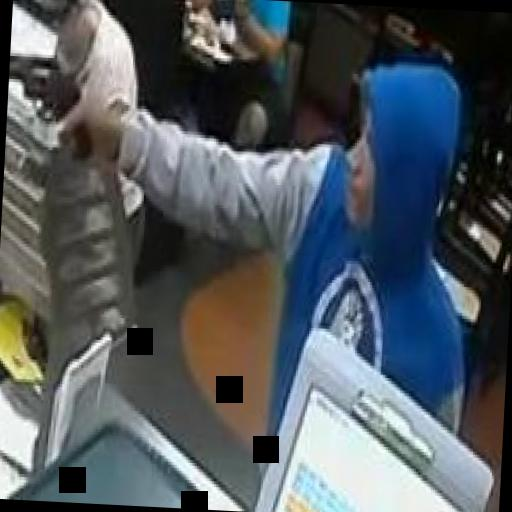Handgun: (5, 47, 97, 158)
